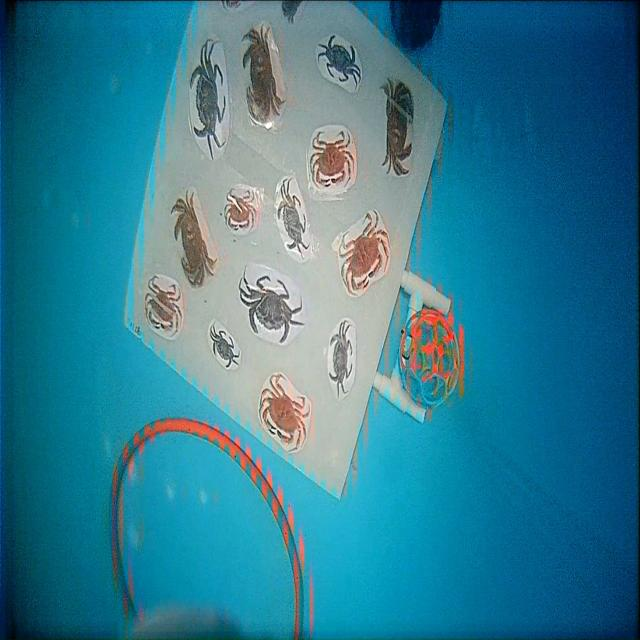GreenCrab: (239, 268, 304, 344), (190, 40, 226, 159), (276, 178, 309, 257), (318, 35, 361, 82), (329, 320, 352, 399), (210, 324, 239, 367)
